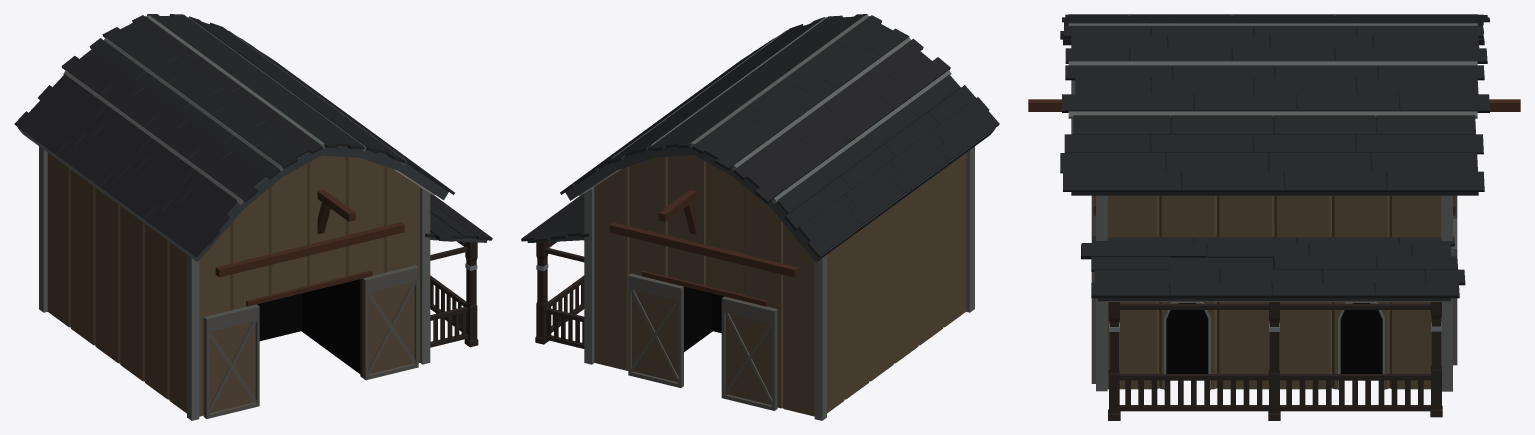
File: BarnGarage_01_B.gltf
3 renders of one model, left to right at view 1: azimuth 30°, elevation 25°; view 2: azimuth 150°, elevation 25°; view 3: azimuth 270°, elevation 25°, orthographic. The views are drawn at different scales.
Visible parts, largest first — view 1: BarnGarage_01_B, BarnGarageRightDoor_01_B, BarnGarageLeftDoor_01_B; view 2: BarnGarage_01_B, гаражный амбар.007, гаражный амбар.010; view 3: BarnGarage_01_B, гаражный амбар.010, BarnGarageLeftDoor_01_B.
Part boxes in pixels (x1=…): BarnGarage_01_B: x1=14, y1=14, x2=492, y2=420; BarnGarageRightDoor_01_B: x1=203, y1=304, x2=259, y2=418; BarnGarageLeftDoor_01_B: x1=362, y1=265, x2=418, y2=380; BarnGarage_01_B: x1=521, y1=14, x2=999, y2=420; гаражный амбар.007: x1=721, y1=296, x2=777, y2=410; гаражный амбар.010: x1=628, y1=273, x2=683, y2=387; BarnGarage_01_B: x1=1028, y1=14, x2=1520, y2=420; гаражный амбар.010: x1=1453, y1=218, x2=1457, y2=365; BarnGarageLeftDoor_01_B: x1=1091, y1=237, x2=1095, y2=383.
Size of the model in its own units: 2.42 by 1.91 by 2.85.
